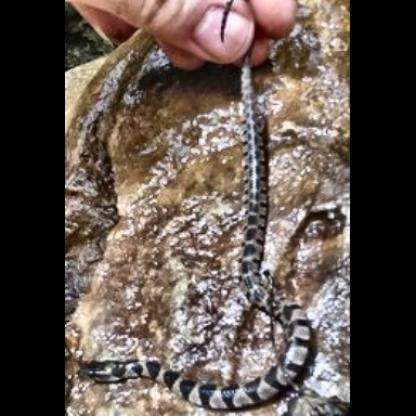Snake: (234, 57, 318, 343), (65, 346, 316, 414)
